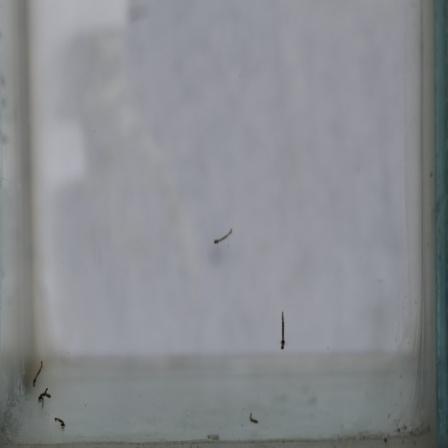Jentik-Nyamuk: (30, 358, 53, 409), (274, 309, 289, 352), (211, 225, 235, 250), (52, 413, 68, 433), (248, 411, 262, 428)
